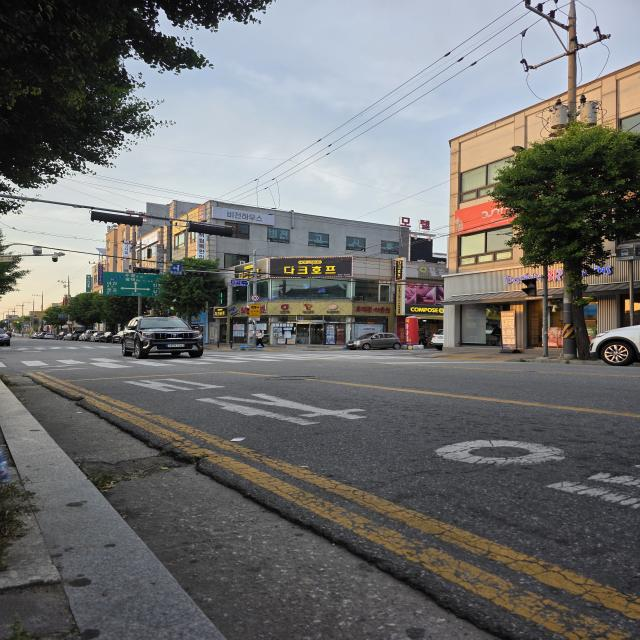car: (112, 307, 204, 359), (567, 316, 640, 366), (342, 332, 406, 350), (422, 322, 452, 351)
